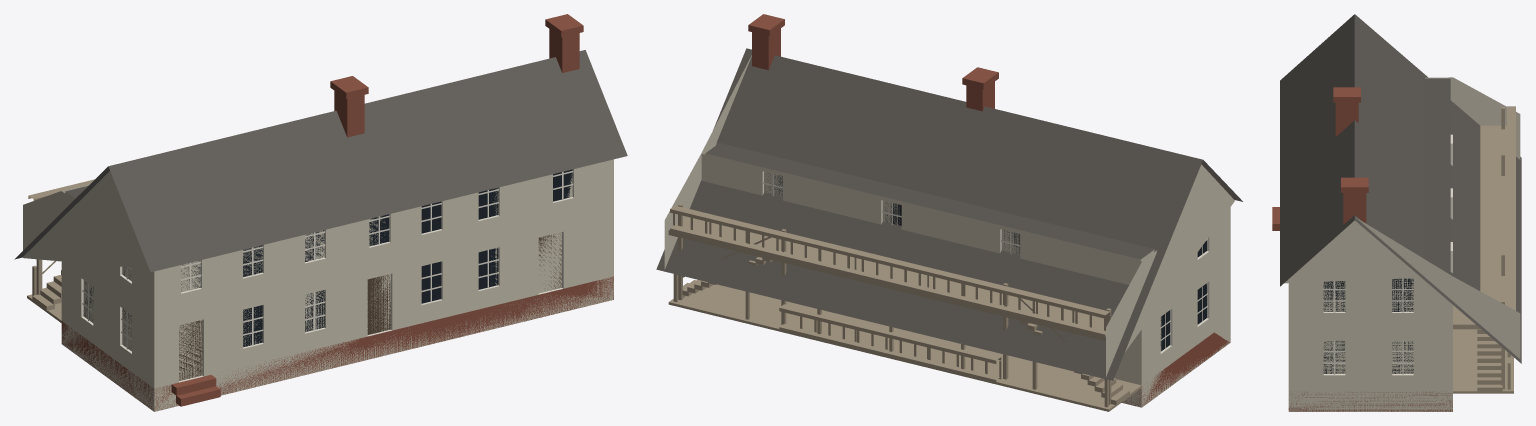
The model's file is hinderliter-grog-shop-1961.glb.
3 renders of one model, left to right at view 1: azimuth 30°, elevation 25°; view 2: azimuth 150°, elevation 25°; view 3: azimuth 270°, elevation 25°, orthographic. The views are drawn at different scales.
Parts seen in each view (by area): view 1: hinderliter_board, hinderliter_roof, hinderliter_brick, hinderliter_glass, hinderliter_door, hinderliter_trim, hinderliter_sash, hinderliter_wood, hinderliter_base; view 2: hinderliter_roof, hinderliter_wood, hinderliter_board, hinderliter_brick, hinderliter_glass; view 3: hinderliter_roof, hinderliter_board, hinderliter_wood, hinderliter_brick, hinderliter_glass, hinderliter_sash, hinderliter_trim.
Part boxes in pixels (<box>): hinderliter_board: <box>23,159,613,411</box>; hinderliter_roof: <box>14,50,627,272</box>; hinderliter_brick: <box>61,14,613,411</box>; hinderliter_glass: <box>83,169,572,347</box>; hinderliter_door: <box>179,233,561,380</box>; hinderliter_trim: <box>81,169,573,382</box>; hinderliter_sash: <box>82,171,573,349</box>; hinderliter_wood: <box>27,179,94,322</box>; hinderliter_base: <box>171,375,220,406</box>; hinderliter_roof: <box>656,48,1242,380</box>; hinderliter_wood: <box>668,204,1141,411</box>; hinderliter_board: <box>664,55,1234,407</box>; hinderliter_brick: <box>748,14,1229,406</box>; hinderliter_glass: <box>765,173,1206,351</box>; hinderliter_roof: <box>1280,14,1521,363</box>; hinderliter_board: <box>1284,77,1520,411</box>; hinderliter_wood: <box>1453,106,1515,393</box>; hinderliter_brick: <box>1288,87,1452,411</box>; hinderliter_glass: <box>1323,278,1413,373</box>; hinderliter_sash: <box>1323,278,1413,374</box>; hinderliter_trim: <box>1323,134,1452,375</box>.
Size of the model in its own units: 19.24 by 9.75 by 9.83.
